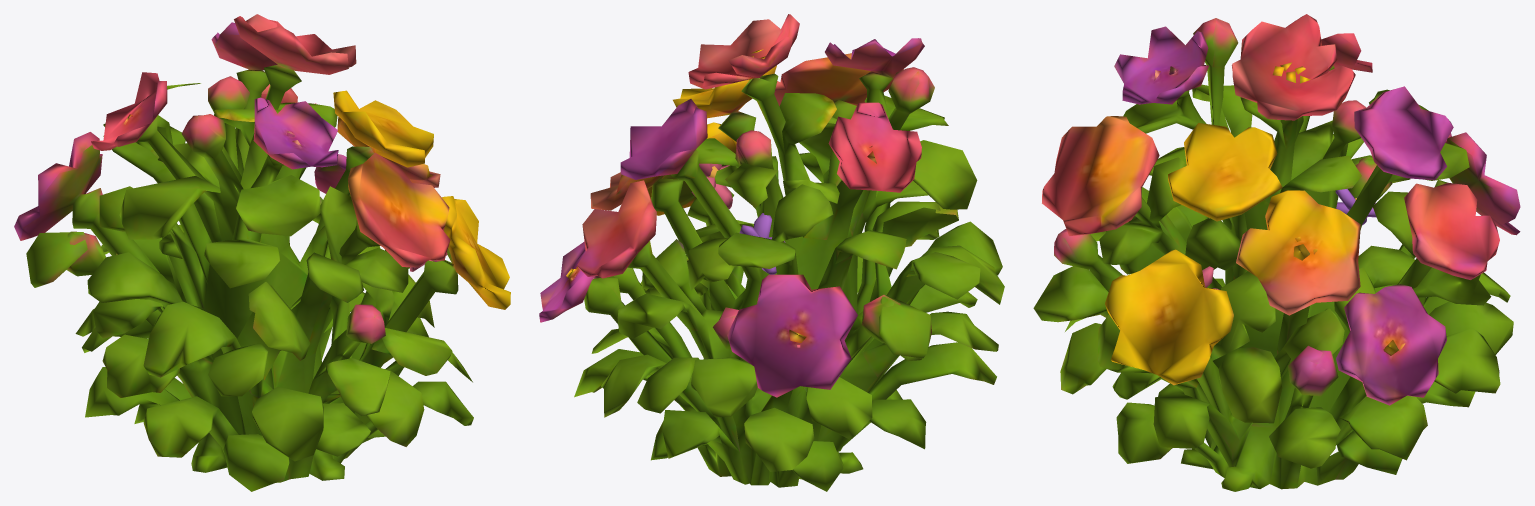
3 views of the same model, side by side, from view 1: azimuth 30°, elevation 25°; view 2: azimuth 150°, elevation 25°; view 3: azimuth 270°, elevation 25° (orthographic).
Visible parts, largest first — view 1: tripo_node_5ed3ef98-5df2-47e6-897d-8f6797d397b7; view 2: tripo_node_5ed3ef98-5df2-47e6-897d-8f6797d397b7, 외형 세부; view 3: tripo_node_5ed3ef98-5df2-47e6-897d-8f6797d397b7, 외형 세부.
Part boxes in pixels (x1,y1,x2,y2): tripo_node_5ed3ef98-5df2-47e6-897d-8f6797d397b7: [14, 14, 510, 491]; tripo_node_5ed3ef98-5df2-47e6-897d-8f6797d397b7: [539, 14, 1004, 491]; 외형 세부: [691, 163, 785, 274]; tripo_node_5ed3ef98-5df2-47e6-897d-8f6797d397b7: [1033, 14, 1520, 491]; 외형 세부: [1202, 188, 1376, 289].
Bounding box in the file's own units: 0.9564 × 1.04 × 1.05.
Materials: 2 (1 with a texture image).
